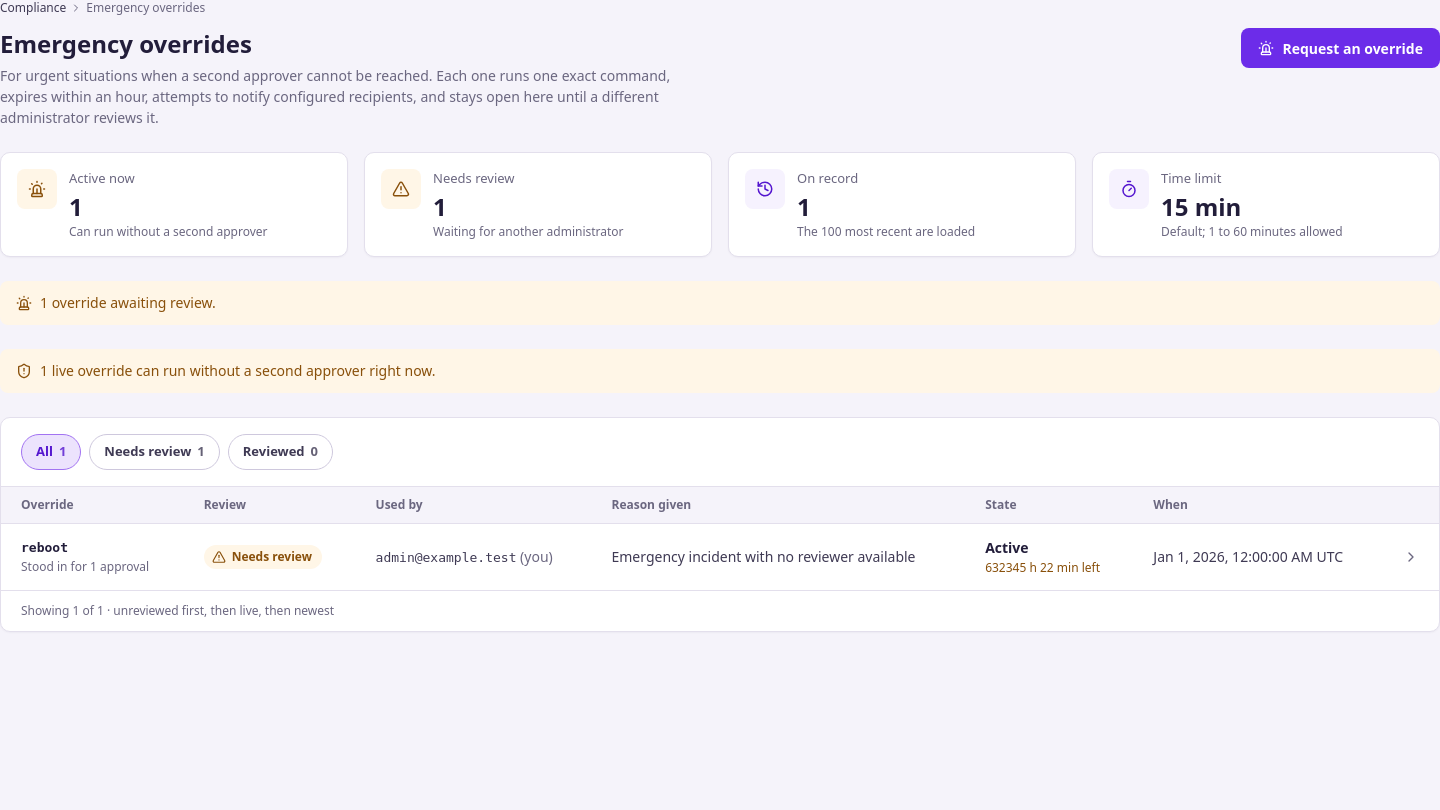
Test: an activator cannot review their own override and notification failure remains visible
Click the row named "Open reboot override": (720, 557) [1,523,1439,590]
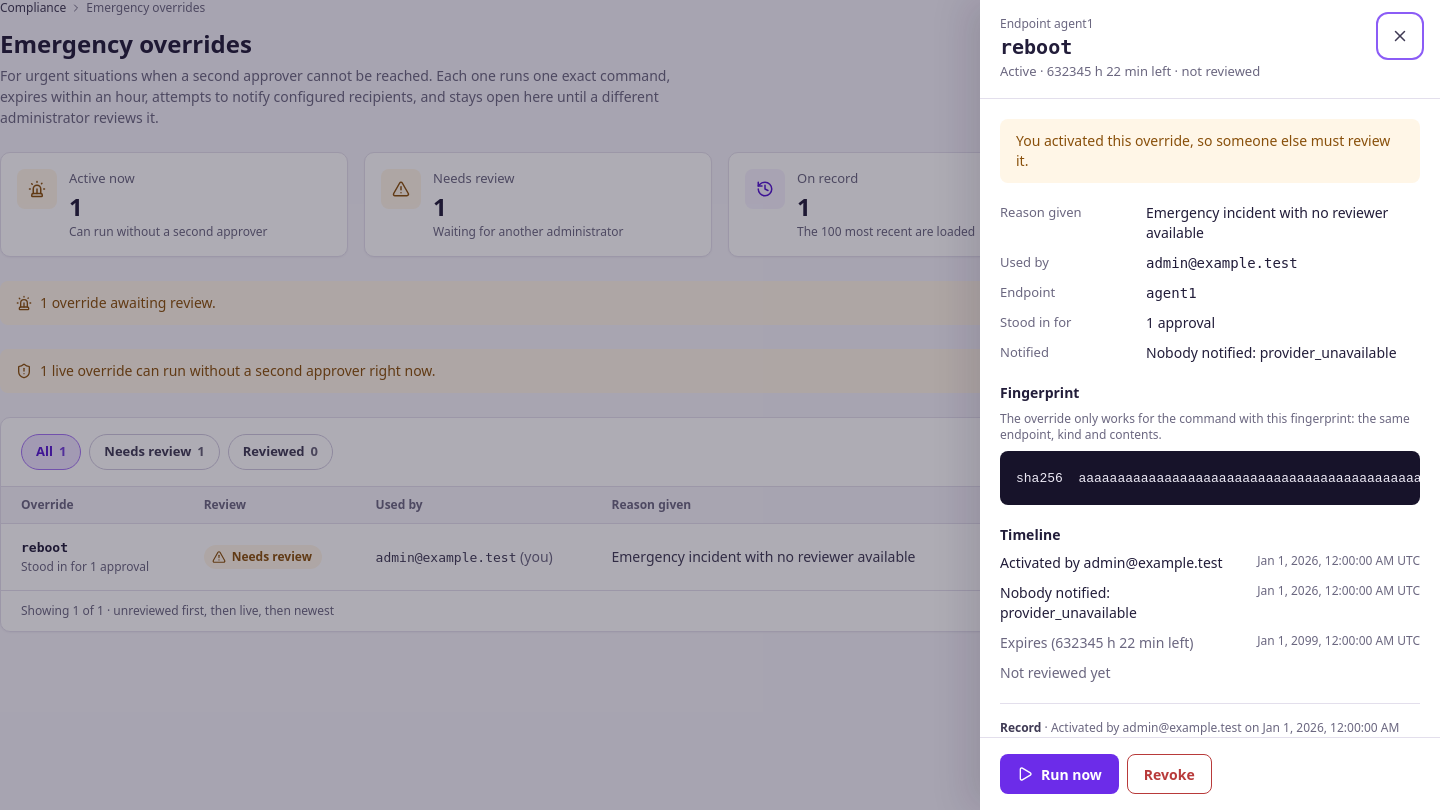
expect the text "You activated this override, so someone else must review it." is shown: met, box [1000,118,1420,182]
